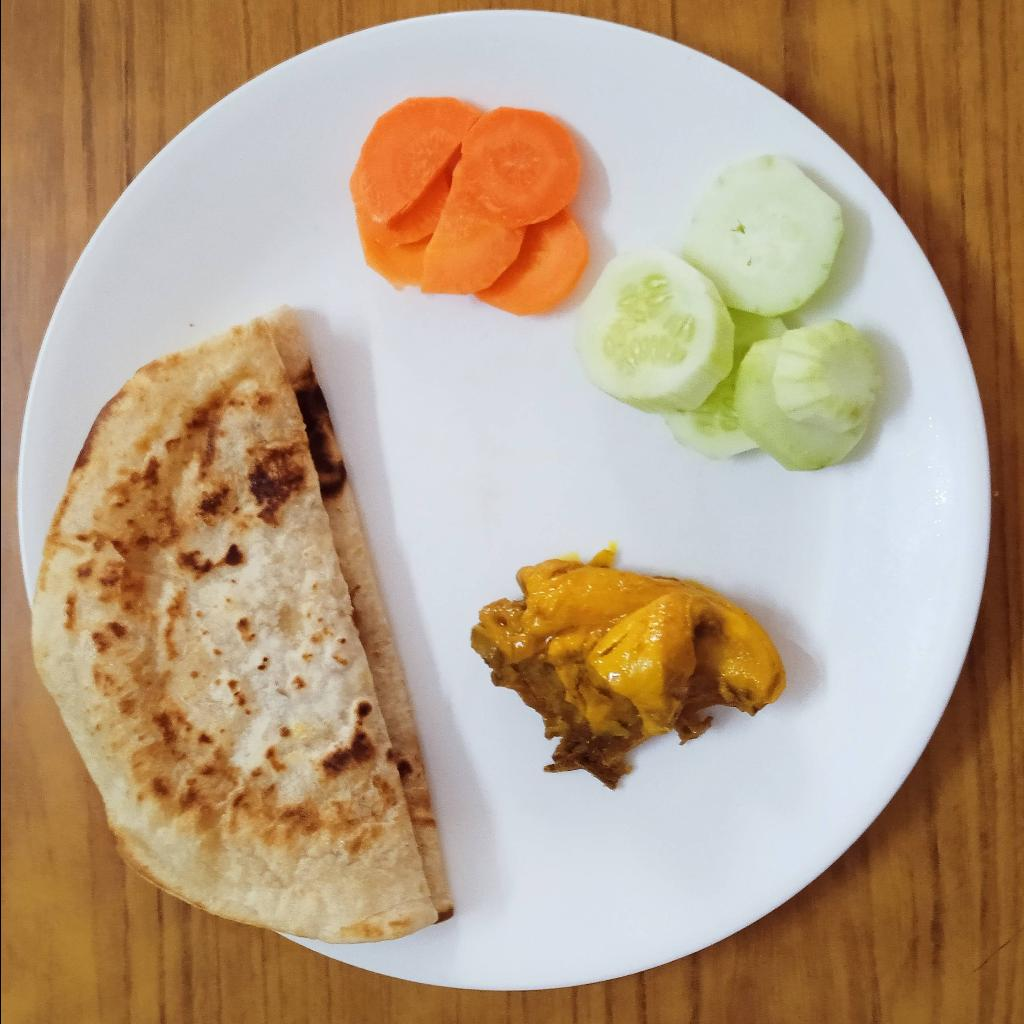carrot: (349, 93, 592, 313)
chicken: (472, 542, 786, 784)
cucumber: (570, 156, 882, 466)
ruti: (23, 298, 453, 944)
